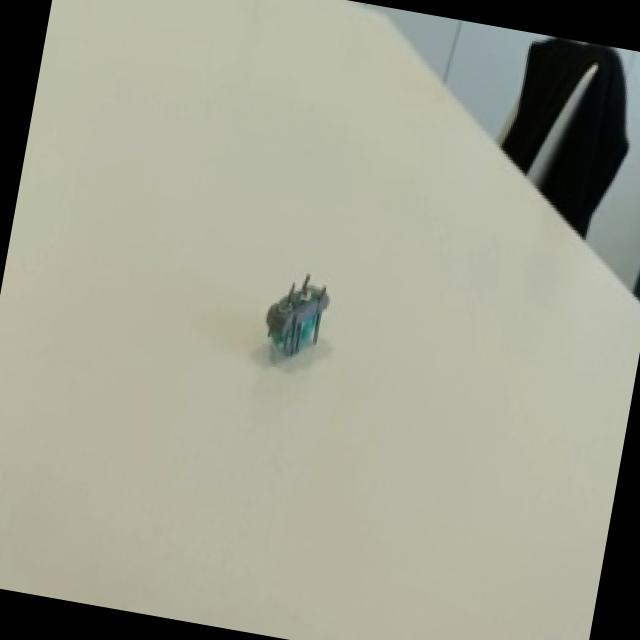5_NanoBug_GrisClaro: (229, 248, 352, 399)
